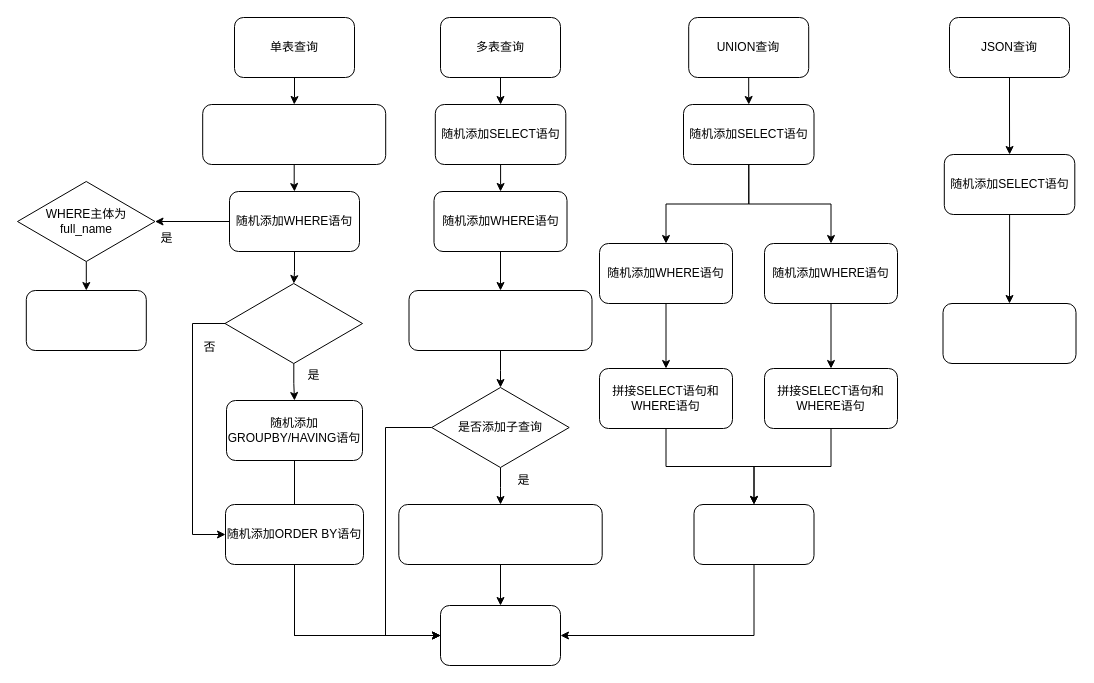
Image size: 1094x683. Some labels were removed from this diagram. The centre of each missing label's shape, as x and y in pixels:
"使用GROUP_CONCAT函数和JSON_OBJECT函数构造JSON查询式" goes at pixel 1009 333.
"是否添加聚合函数" goes at pixel 293 323.
"根据生成的随机数随机添加INNER JOIN/LEFT JOIN/RIGHT JOIN/普通多表查询/子查询" goes at pixel 500 320.
"添加LIKE条件" goes at pixel 85 320.
"添加UNION拼接" goes at pixel 753 534.
"随机添加LIMIT语句" goes at pixel 500 635.
"随机添加SELECT语句 （包括列，聚合函数，窗口函数）" goes at pixel 294 134.
"随机添加子查询语句 （包括SECELT部分和WHERE部分）" goes at pixel 500 534.
